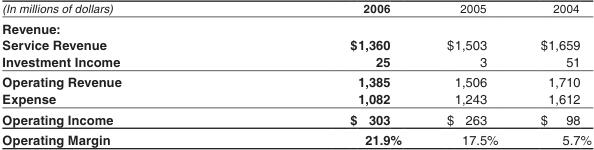table: (1, 1, 590, 146)
table column: (1, 1, 235, 146), (235, 1, 423, 146), (423, 1, 518, 146), (518, 1, 590, 146)
table column header: (1, 1, 590, 17)
table projected row header: (1, 17, 590, 36)
table row: (1, 108, 590, 129), (1, 17, 590, 36), (1, 71, 590, 90), (1, 53, 590, 71), (1, 90, 590, 108), (1, 36, 590, 53), (1, 129, 590, 146), (1, 1, 590, 17)
